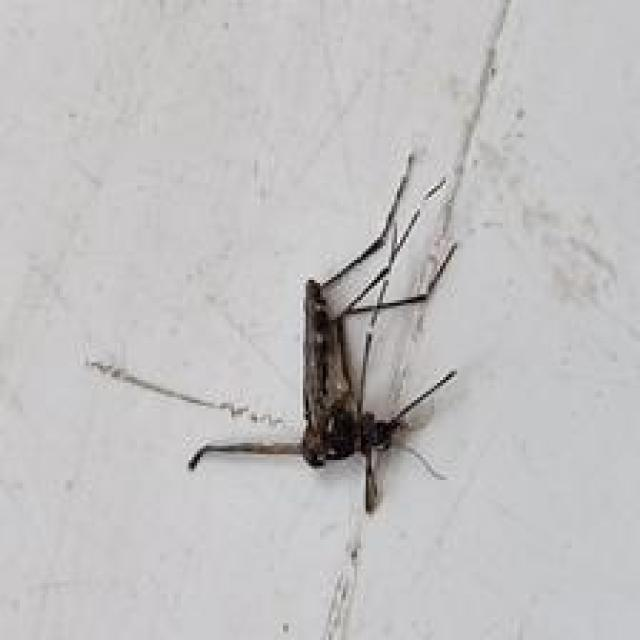Aedes albopictus: (86, 151, 463, 640)
